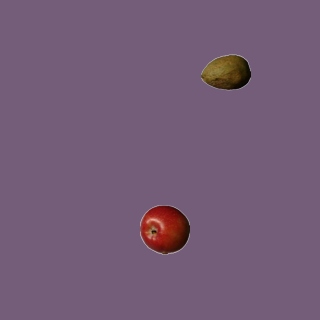Apple Braeburn: (139, 204, 189, 254)
Papaya: (200, 47, 250, 97)
